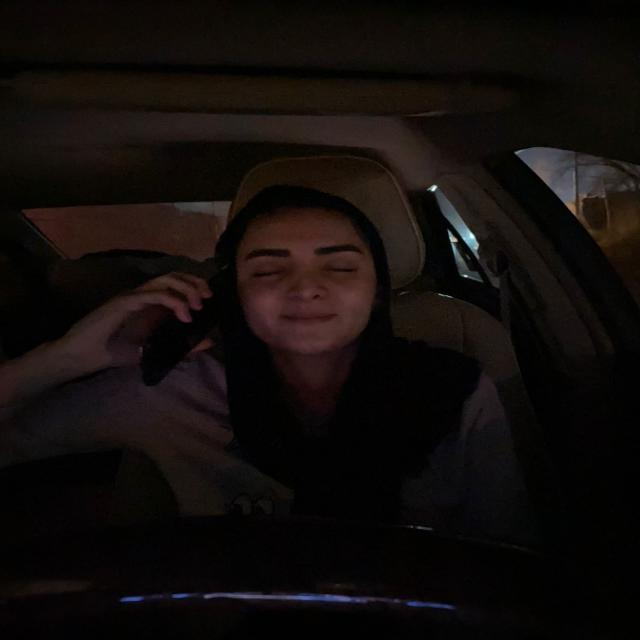mobile: (126, 307, 188, 393)
person: (214, 182, 398, 362)
